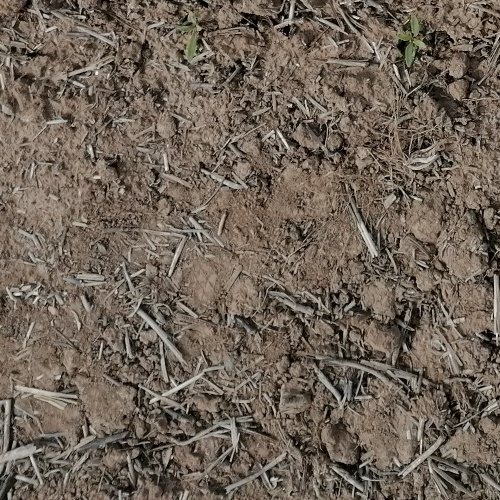beet: (397, 17, 426, 67), (179, 14, 208, 60)
